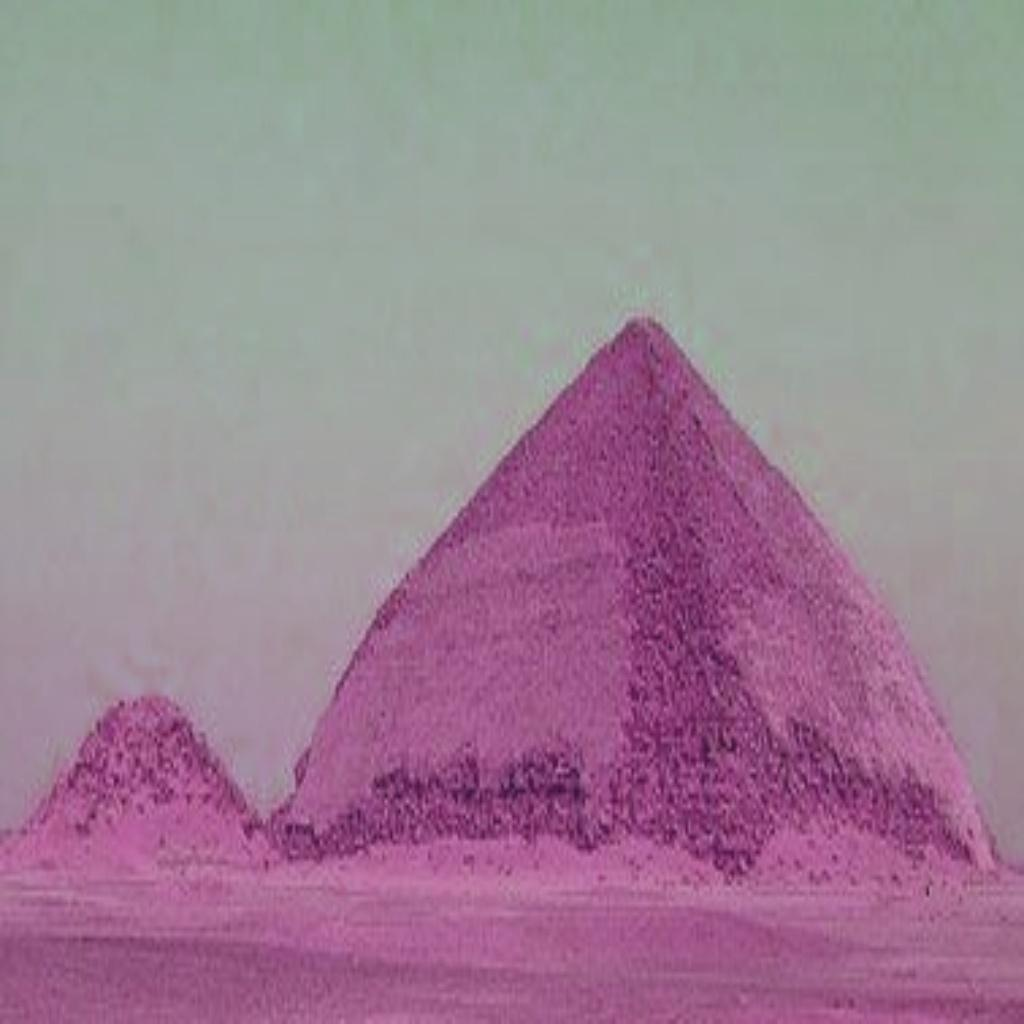Bent Pyramid of King Sneferu: (274, 302, 1000, 886)
